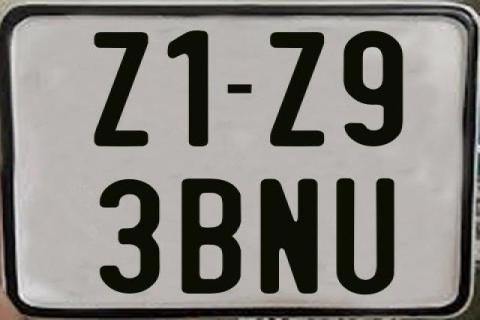0: (340, 30, 404, 148), (99, 179, 159, 299), (166, 29, 208, 148)
B: (180, 178, 242, 294)
N: (260, 177, 318, 295)
U: (336, 178, 396, 296)
Z: (92, 30, 146, 146), (267, 30, 321, 144)
